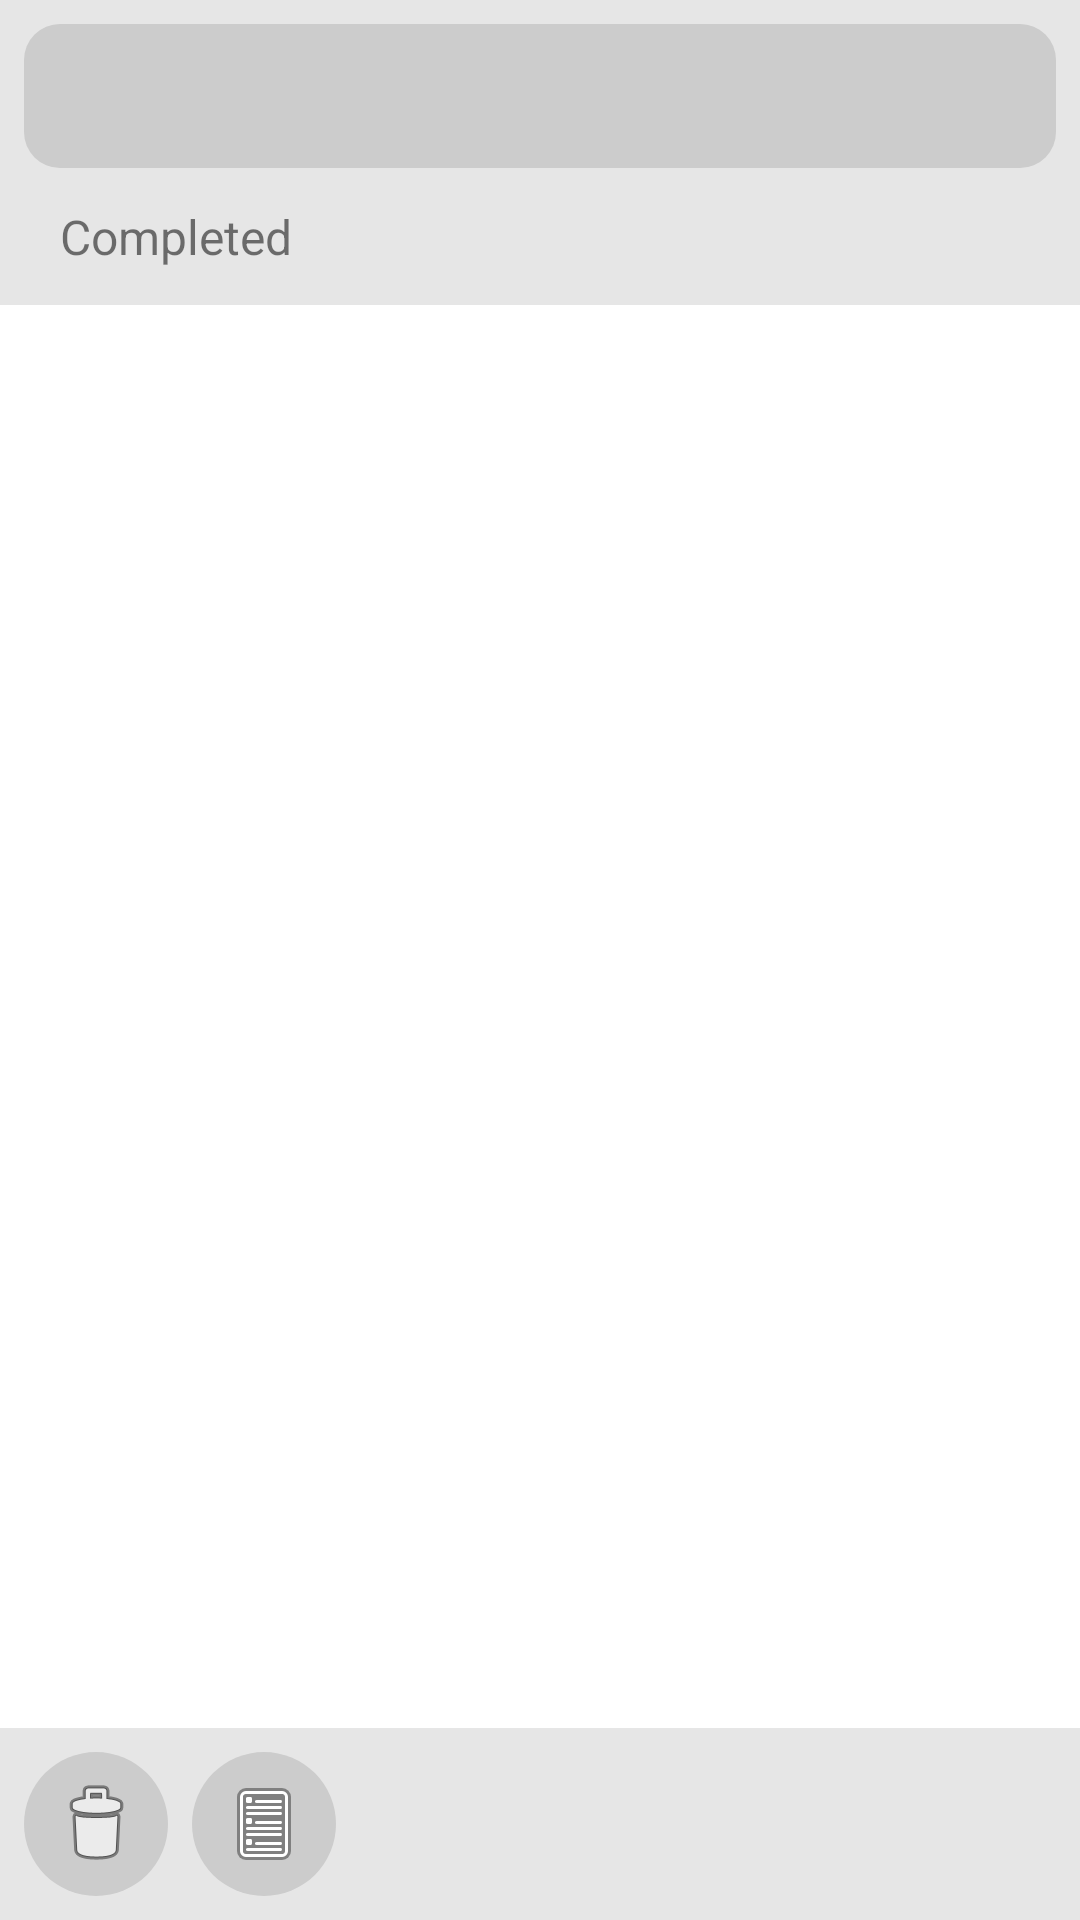

Point at icon controls on the screen. Image size 1080w x 1920h, points as [x,y].
back to tasks: [264,1824]
Delete all Entries: [96,1824]
